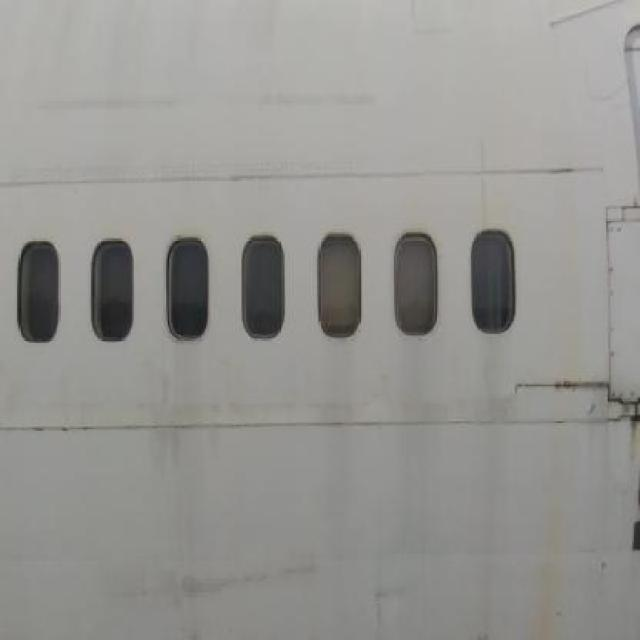Missing-Rivet: (468, 12, 527, 390), (189, 13, 249, 330), (329, 4, 362, 373), (357, 260, 483, 328), (523, 290, 640, 352), (243, 223, 342, 280)
